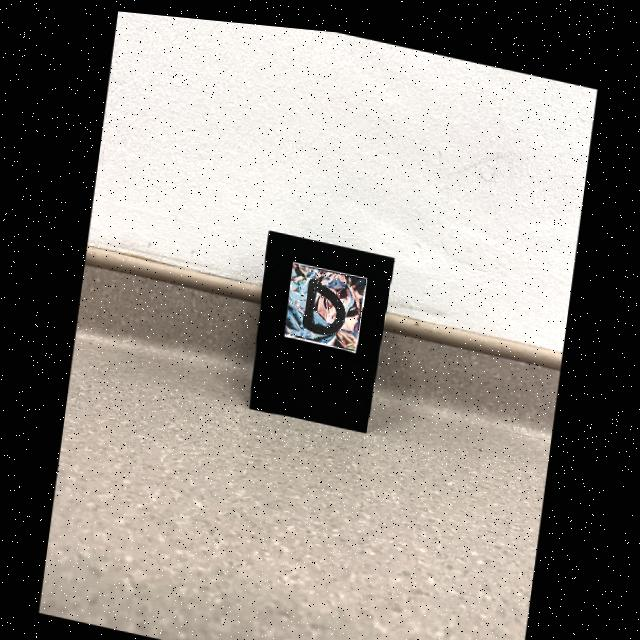D: (303, 273, 346, 328)
